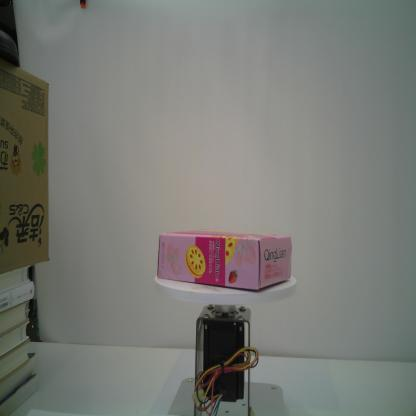Dessert: (157, 229, 293, 291)
